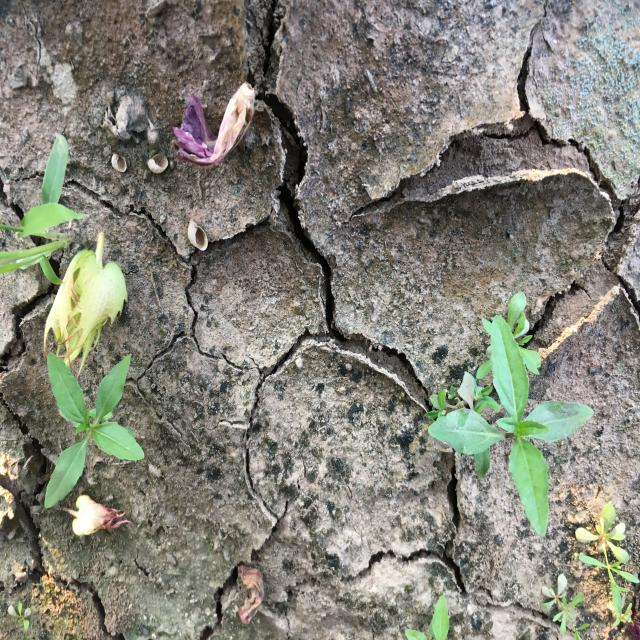Carpetweed: (574, 500, 639, 630), (538, 572, 595, 639)
Eclipta: (422, 290, 595, 539), (43, 350, 146, 510)
